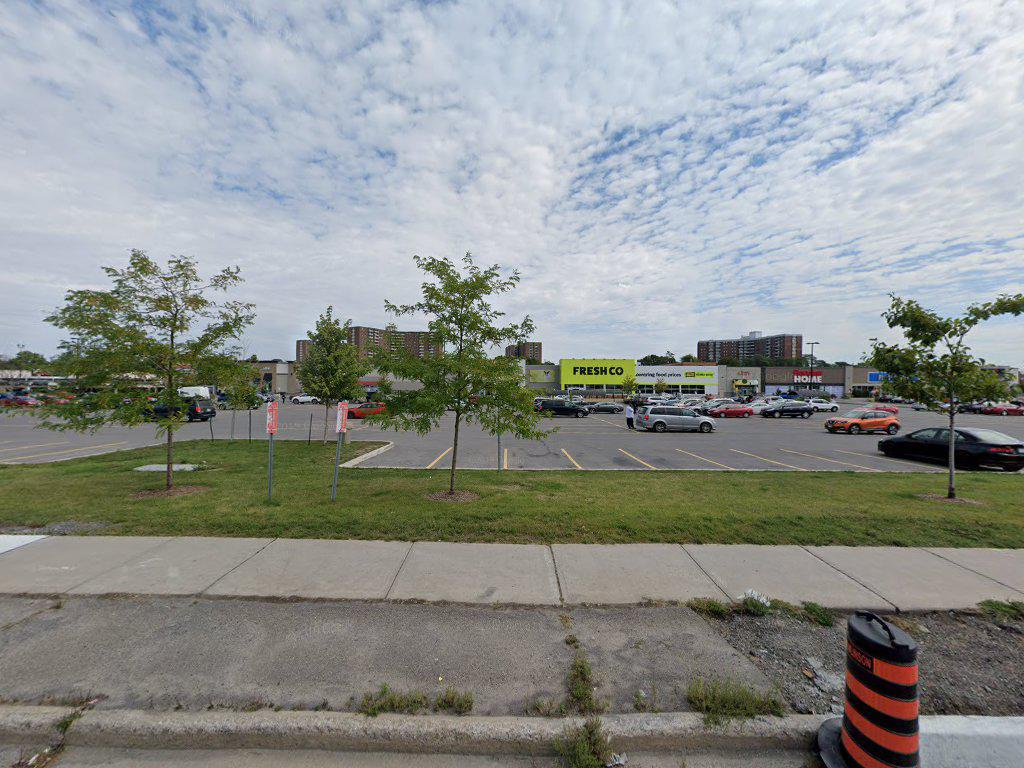trunk: (162, 416, 179, 500)
